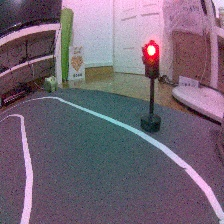red: (138, 38, 166, 137)
